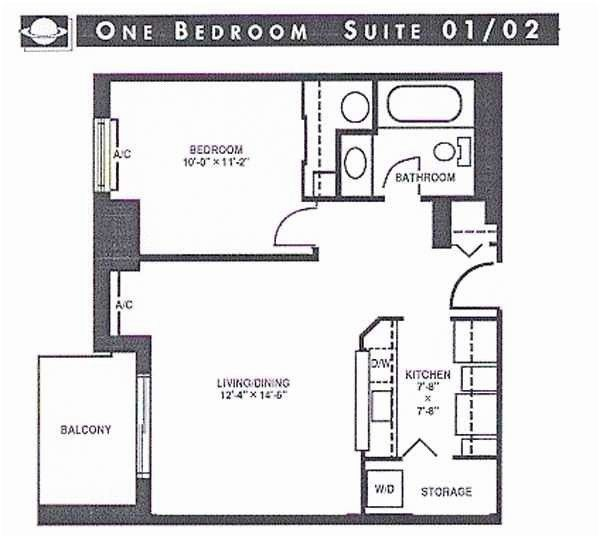door: (438, 252, 506, 320), (270, 205, 335, 249), (376, 147, 433, 193), (396, 428, 455, 467), (450, 236, 489, 263)
room: (141, 256, 361, 516), (359, 203, 513, 527), (95, 73, 318, 261), (304, 76, 504, 198)
wall: (32, 490, 508, 538), (81, 192, 160, 356), (88, 63, 508, 86), (473, 62, 509, 263), (131, 241, 329, 276), (491, 303, 513, 529), (291, 69, 314, 204), (421, 189, 506, 209), (296, 190, 391, 207), (429, 189, 454, 253), (329, 123, 347, 205), (367, 67, 386, 143), (84, 68, 114, 116), (129, 329, 155, 378), (329, 121, 381, 137)
window: (129, 375, 168, 481), (80, 115, 127, 196)
